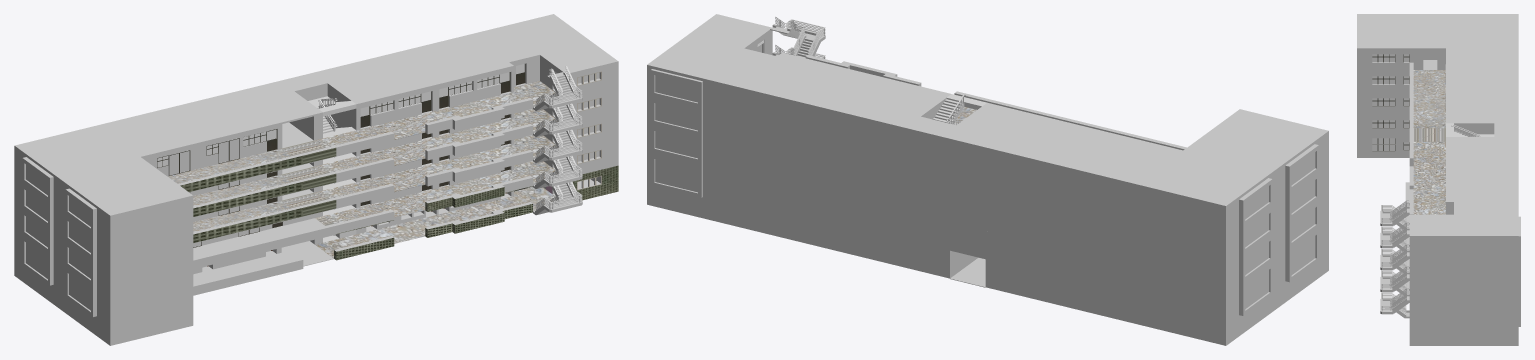
The model's file is A1_Building_V5.fbx.
3 views of the same model, side by side, from view 1: azimuth 30°, elevation 25°; view 2: azimuth 150°, elevation 25°; view 3: azimuth 270°, elevation 25° (orthographic). The views are drawn at different scales.
Visible parts, largest first — view 1: Cube.275; view 2: Cube.275; view 3: Cube.275.
Boxes of the visible parts, left/top/right/bottom form: Cube.275: left=14, top=14, right=618, bottom=345; Cube.275: left=647, top=14, right=1328, bottom=345; Cube.275: left=1357, top=14, right=1520, bottom=345.
Bounding box in the file's own units: 6548 × 1657 × 2028.
